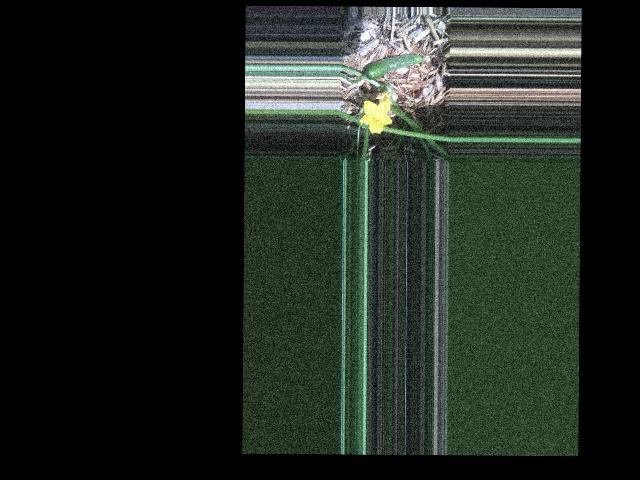cucumber: (363, 52, 428, 80)
